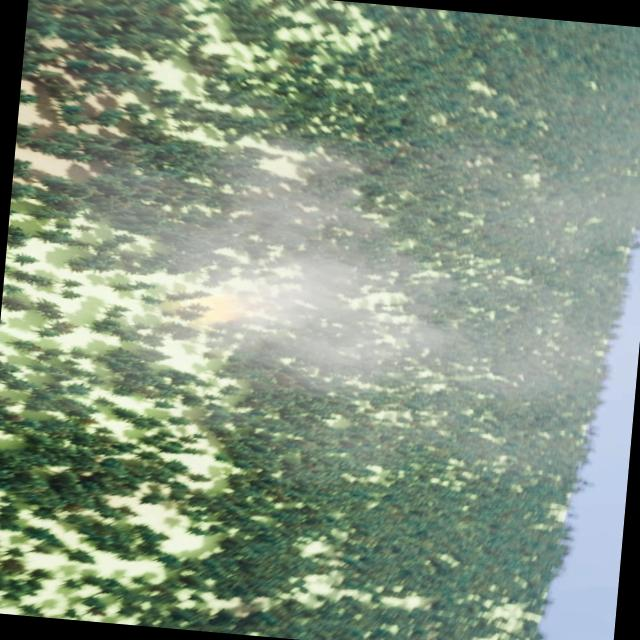fire: (195, 293, 248, 327)
smoke: (0, 112, 618, 485)
